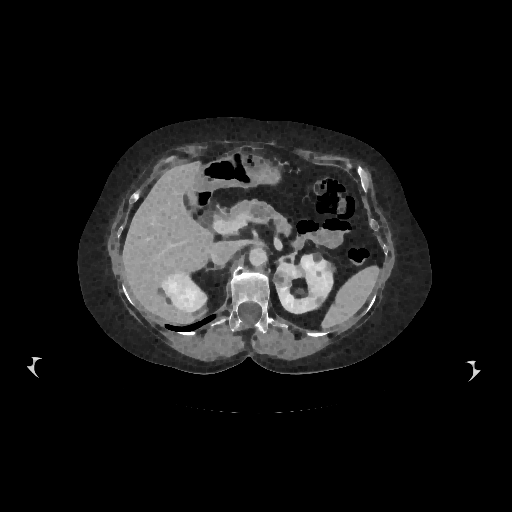Lesion: (274, 271, 293, 287)
